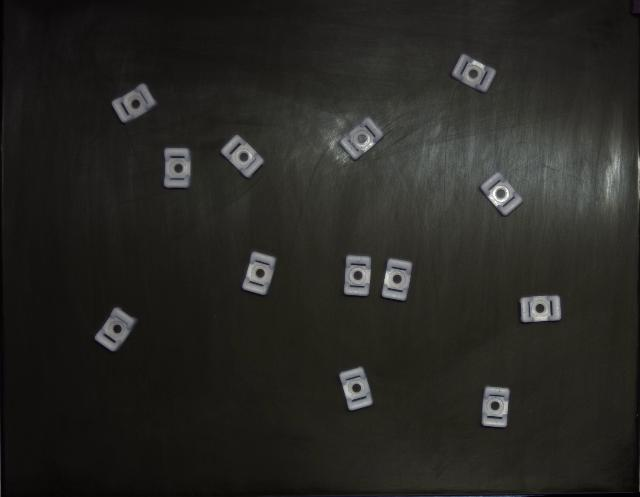first_side: (221, 135, 264, 179), (95, 308, 138, 352), (340, 118, 384, 160), (480, 172, 522, 216), (111, 84, 158, 122), (451, 54, 496, 92), (242, 251, 276, 295), (340, 368, 372, 411), (381, 259, 412, 301), (481, 386, 510, 429), (520, 295, 561, 324), (344, 255, 371, 296), (164, 149, 191, 189)
